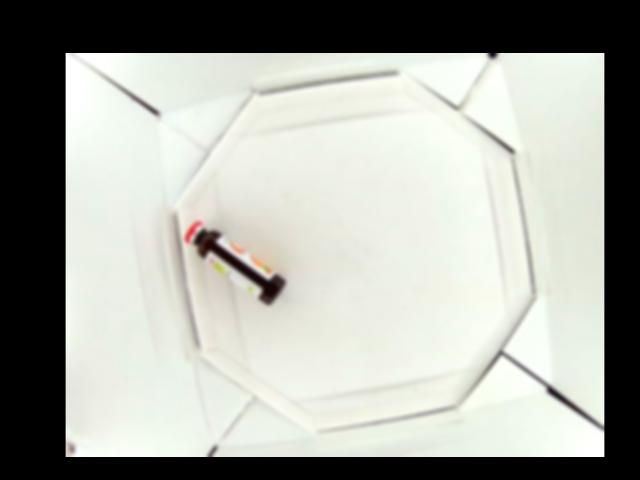Medicine: (184, 220, 286, 307)
